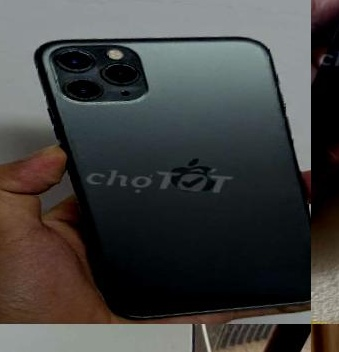scratch: (330, 0, 339, 98)
